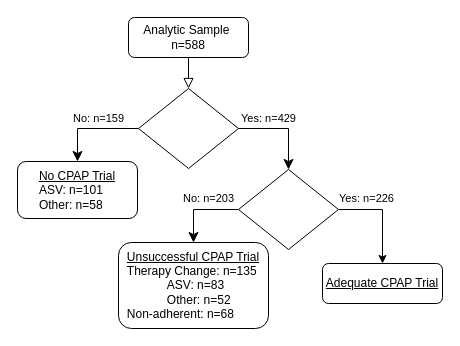
Some shapes in this 460 by 346 pixel diagram are drawn without their labels. The centre of each missing label's shape, as x and y in pixels:
Adherent & no therapy change?**: the point at 288,209
Initially Prescribed CPAP?*: the point at 188,128
